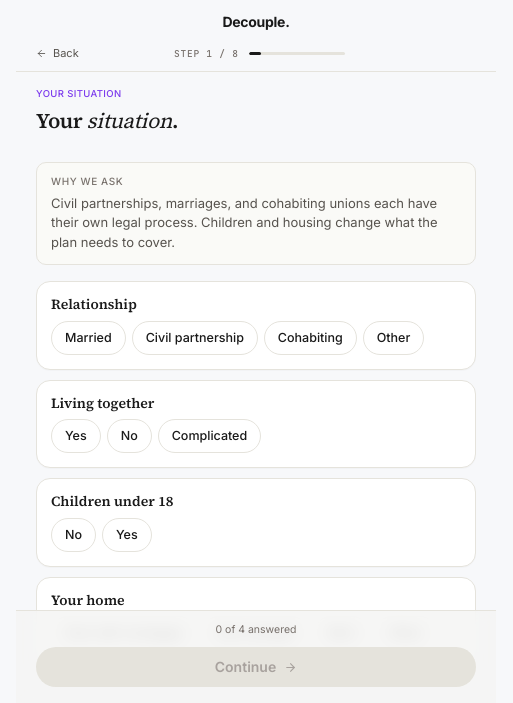
Test: O2 (canvas-as-source) › shows "0 of 4 answered" caption initially and updates as questions are answered
Check: the text "0 of 4 answered" is shown, box [216, 623, 296, 636]
What coordinates should you click on to do the following:
click the button "Married"
I would click on:
 (88, 338)
Its box is [51, 321, 126, 355].
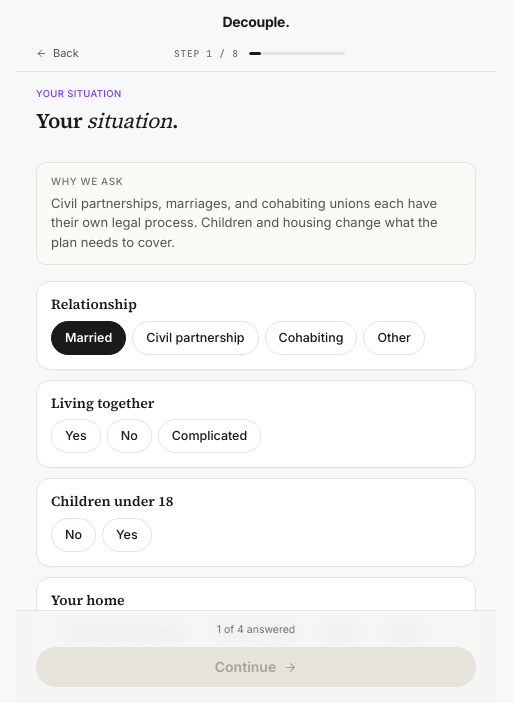
Check: the text "1 of 4 answered" is shown, box [217, 623, 295, 636]
